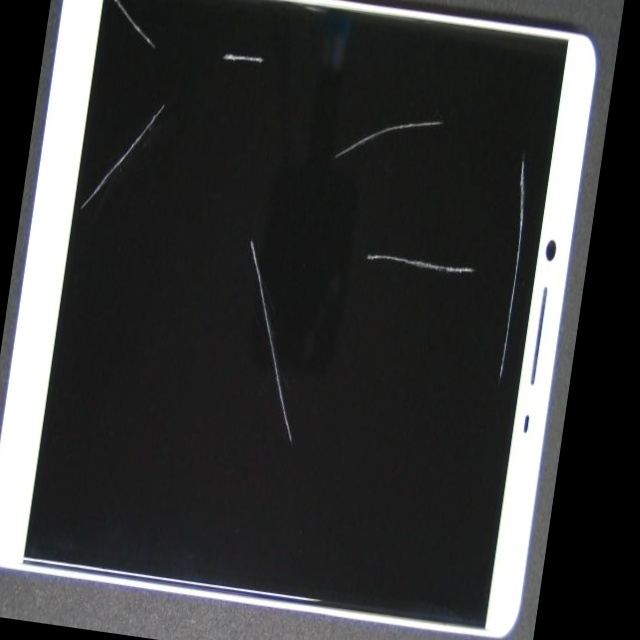scratch: (296, 95, 605, 401), (170, 333, 434, 613), (294, 0, 618, 208), (258, 253, 582, 448), (181, 0, 368, 109), (120, 0, 208, 227), (49, 0, 158, 83)
